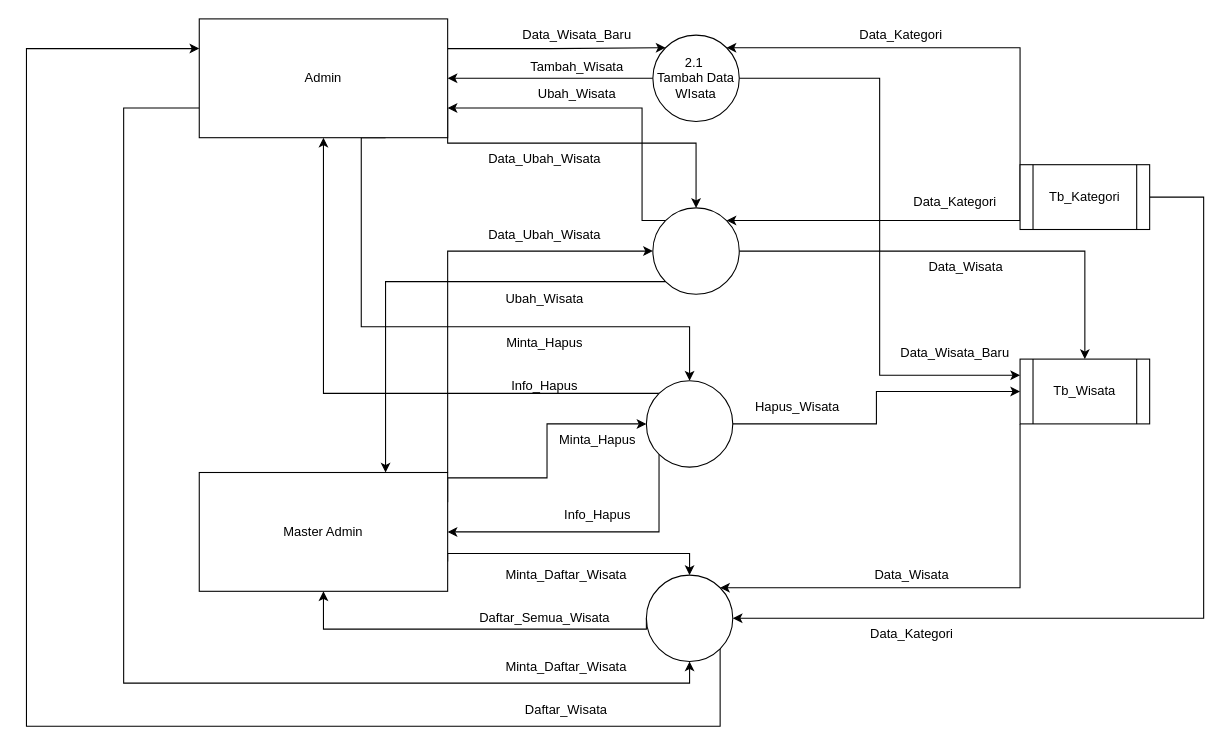
The diagram is 1231 pixels wide and 754 high, and some of its shapes have lost their labels. Each missing label, with the box of its shape:
2.2 Ubah Data Wisata: (652, 207, 739, 294)
2.3 Hapus Data Wisata: (645, 380, 733, 467)
2.4 Tampilkan Data Wisata: (645, 574, 733, 662)
